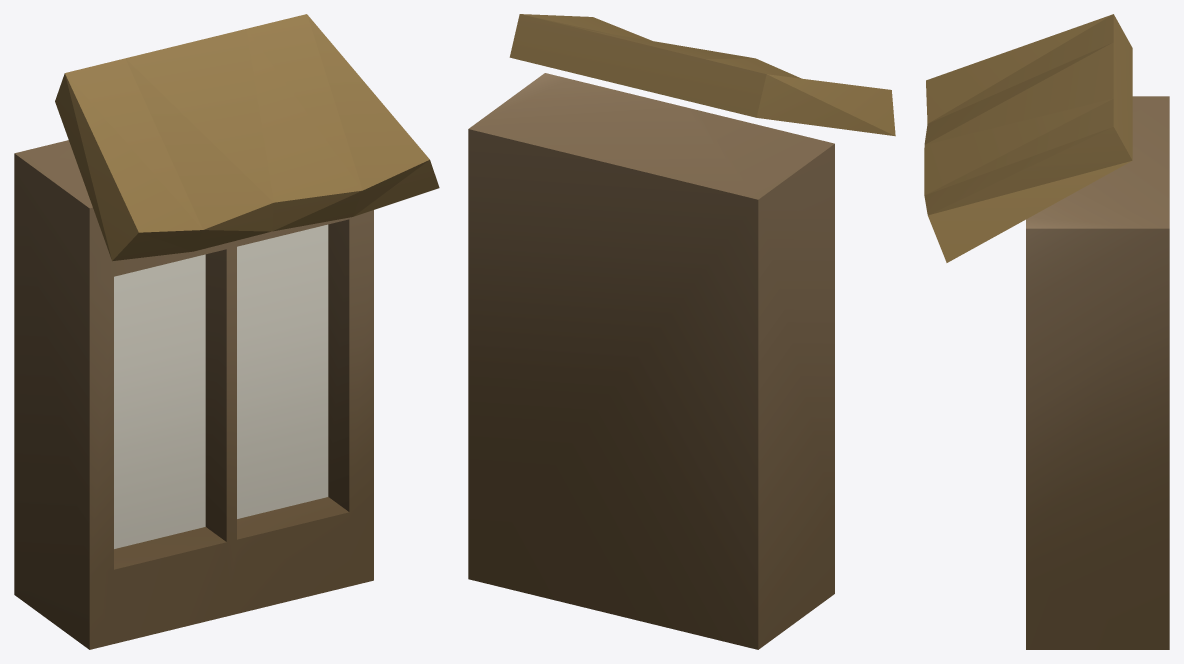
The model's file is Farmhouse_Window.fbx.
3 views of the same model, side by side, from view 1: azimuth 30°, elevation 25°; view 2: azimuth 150°, elevation 25°; view 3: azimuth 270°, elevation 25° (orthographic). The views are drawn at different scales.
Visible parts, largest first — view 1: Farmhouse_Window; view 2: Farmhouse_Window; view 3: Farmhouse_Window.
Boxes of the visible parts, box(x1,y1,x2,y2) form: Farmhouse_Window: box(14, 14, 439, 649); Farmhouse_Window: box(468, 14, 895, 649); Farmhouse_Window: box(924, 14, 1169, 649).
Bounding box in the file's own units: 0.7762 × 1.22 × 0.5286.
1 material, 1 textured.
